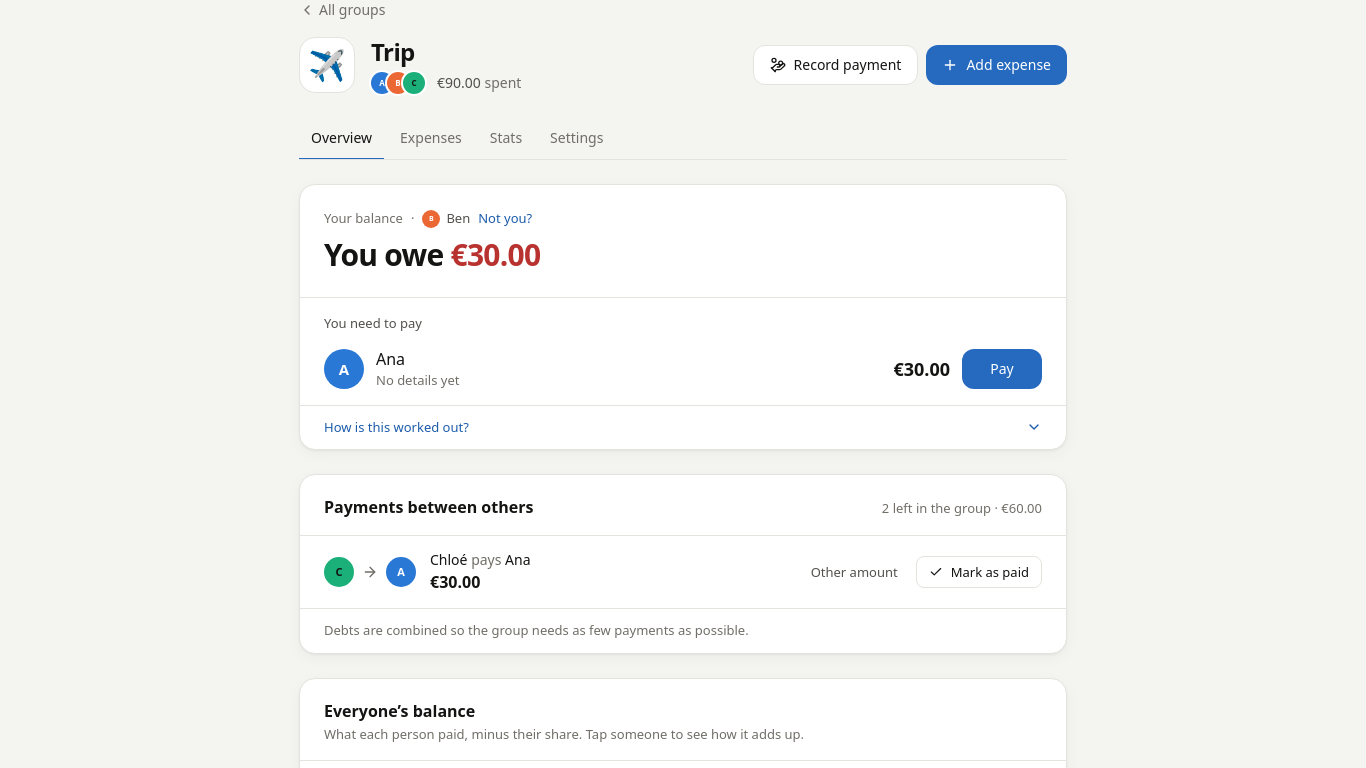
Test: Overview when you owe › lets you pay part of it
This screenshot has width=1366, height=768.
Click the button with aria-label "Pay Ana €30.00".
click(1002, 369)  # box [962,349,1042,389]
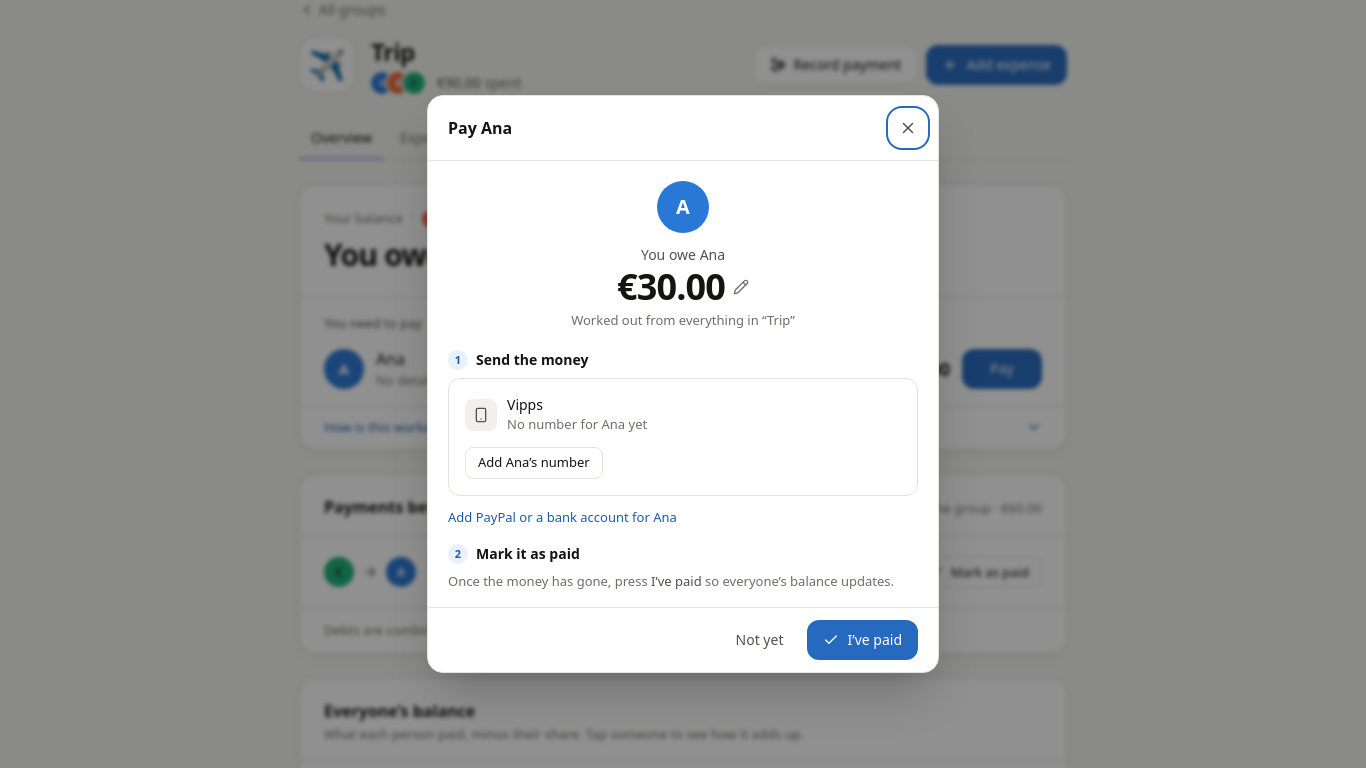
Click the button named "Change amount".
click(683, 287)  # box [617,267,749,307]
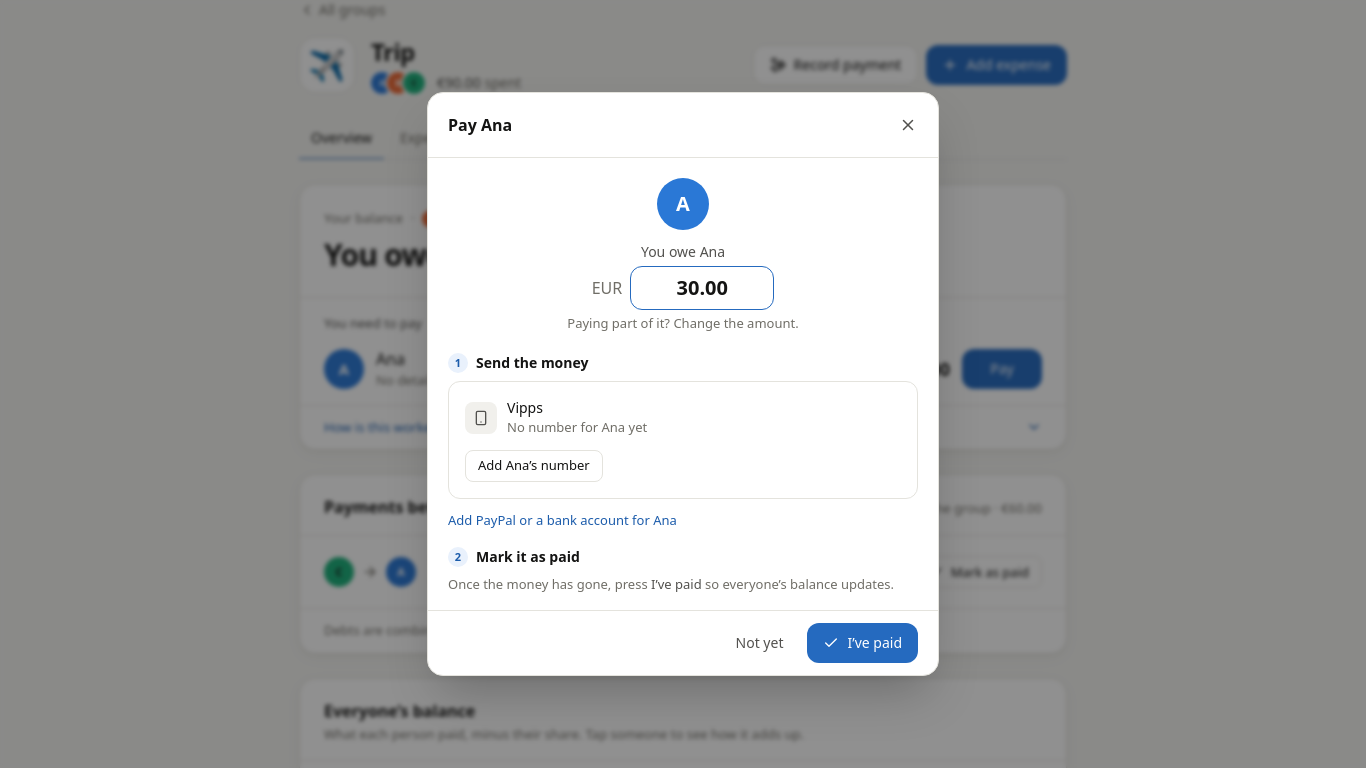
Replace the text in the field named "Amount to pay" with "10" at [702, 288], box [630,266,774,310]
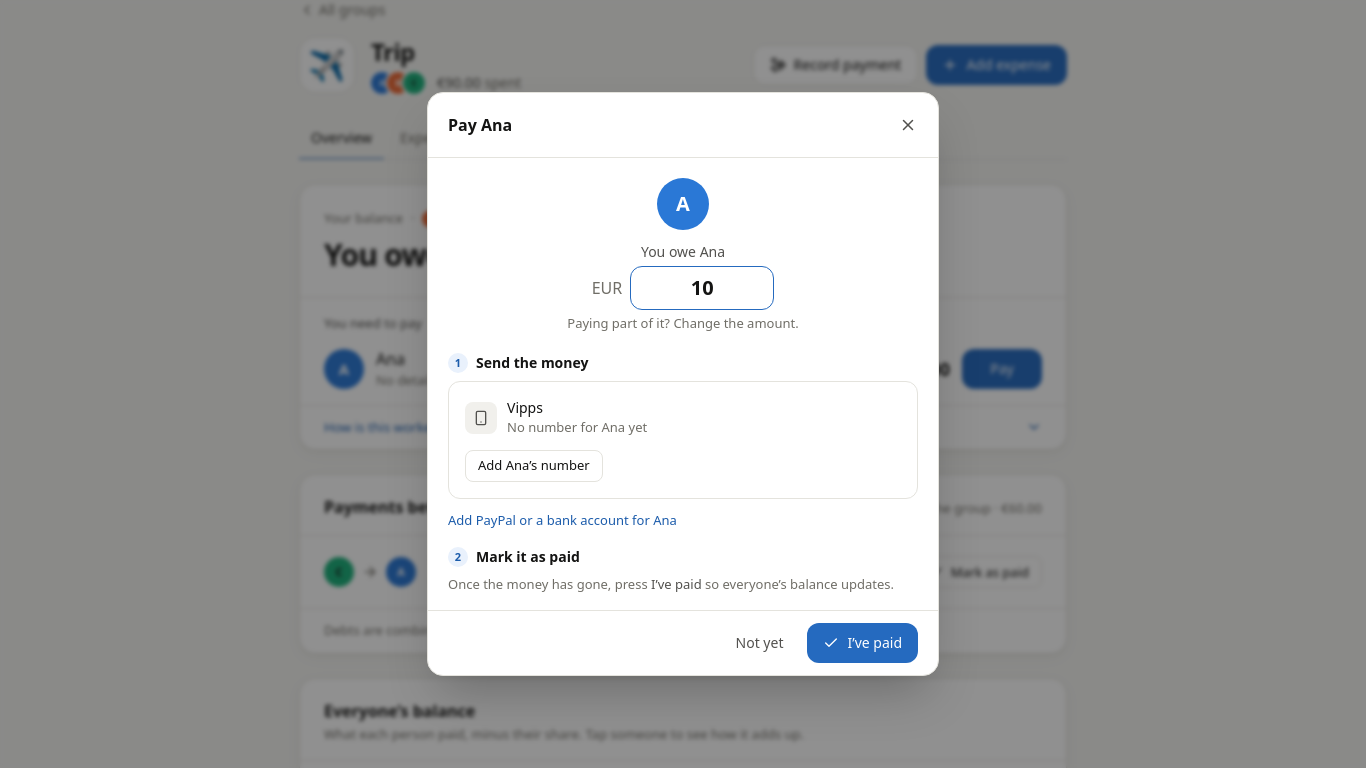
Click the button "I’ve paid".
click(863, 643)  # box [808,623,918,663]
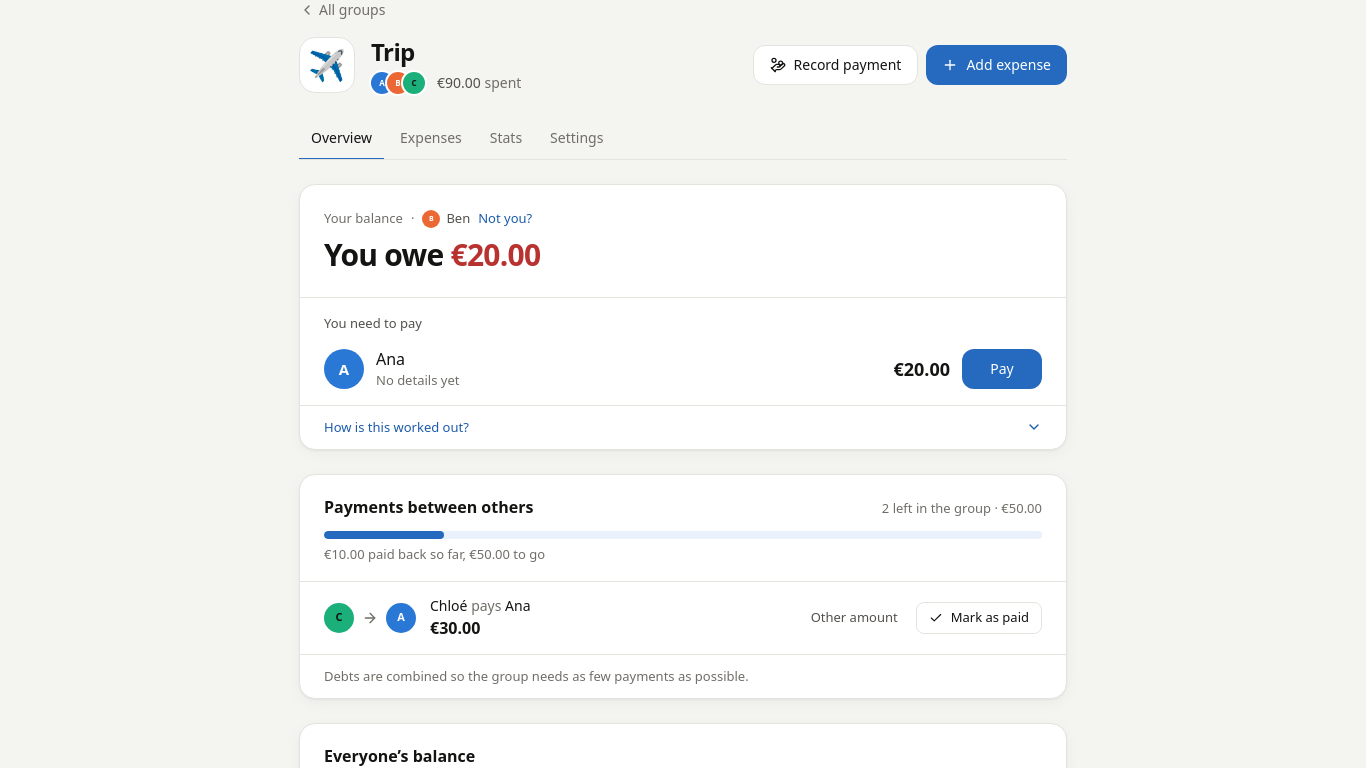
Now the heading "You owe €20.00" is shown, box [324,234,540,274]
